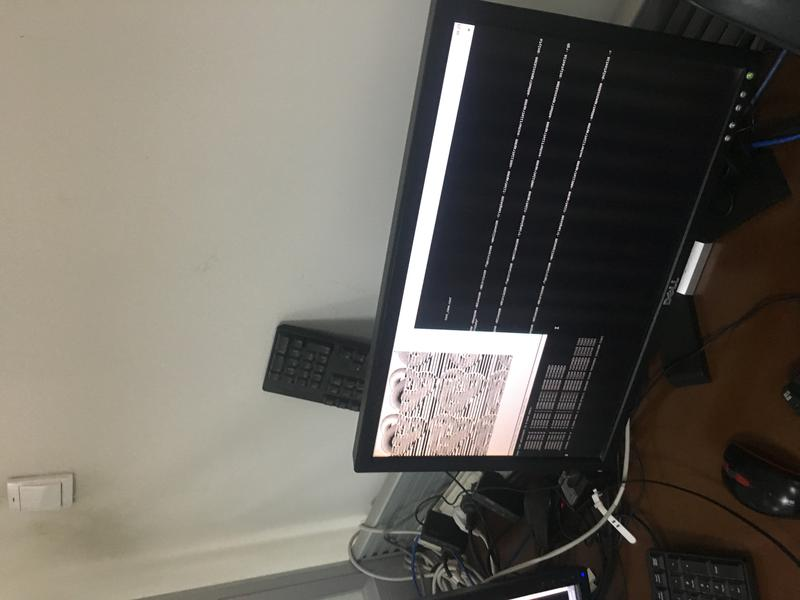xrandr_pass: (373, 329, 551, 460)
